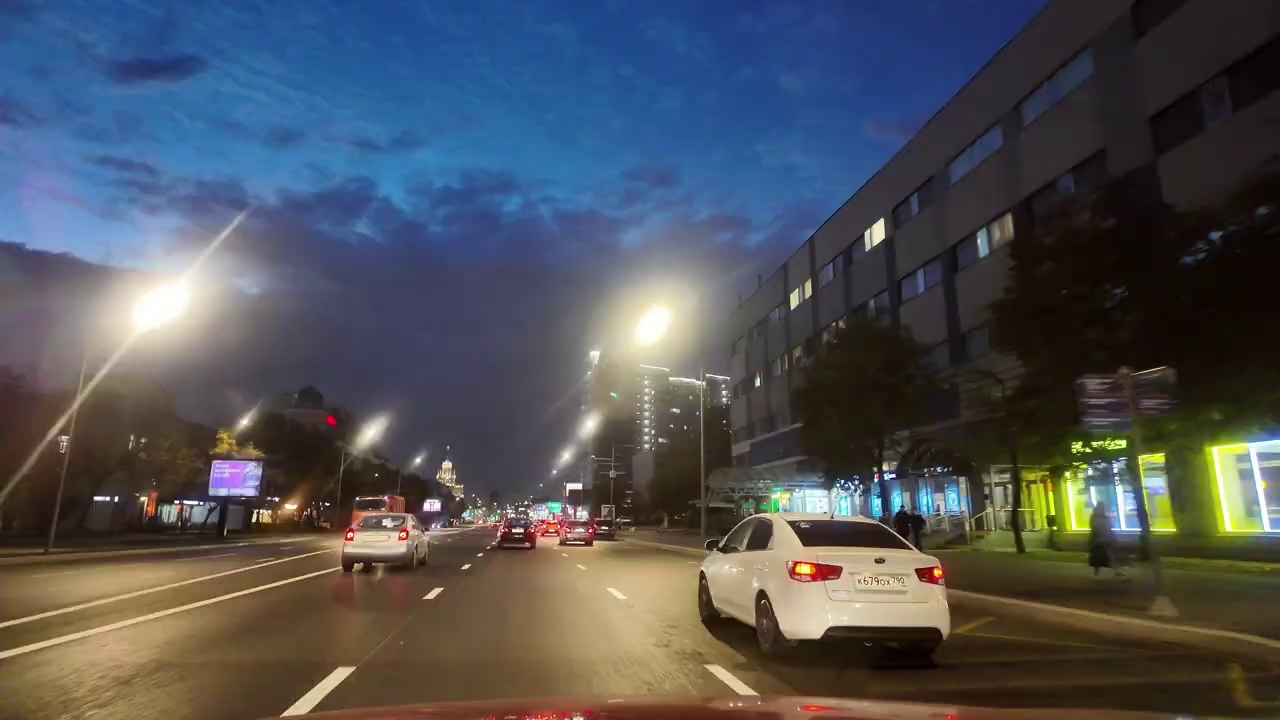acesa: (127, 281, 203, 336), (626, 294, 686, 355), (351, 413, 389, 452)
